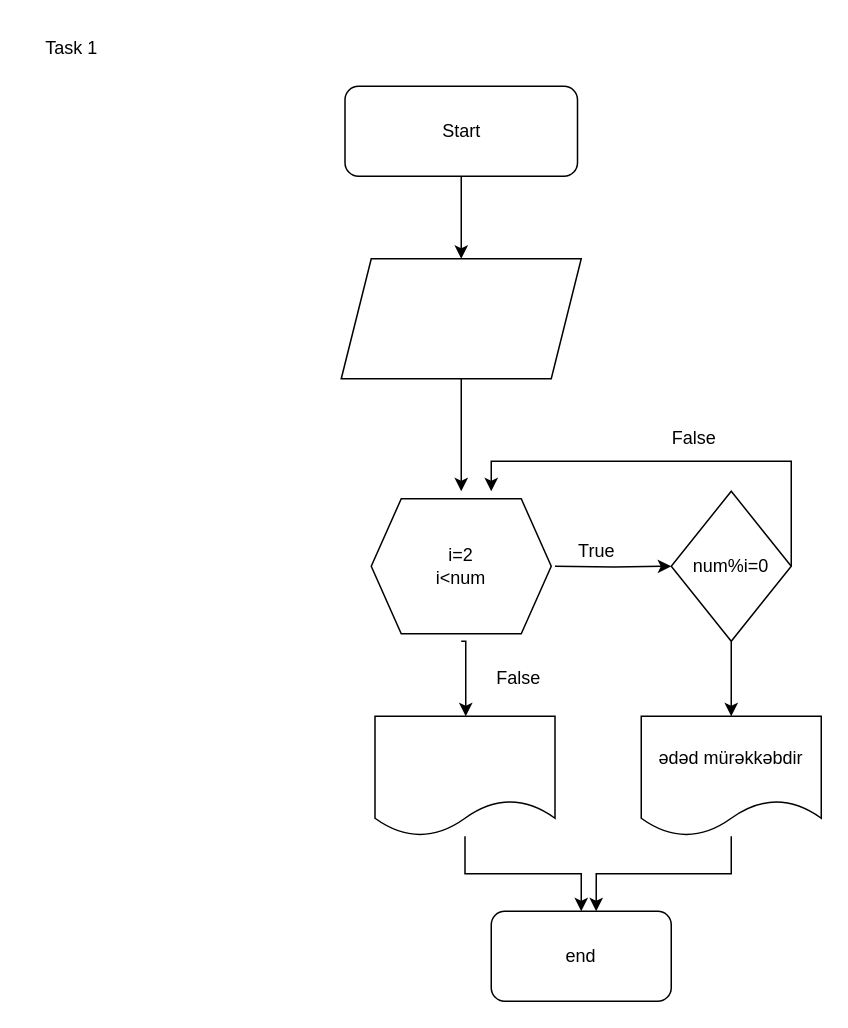
This 848x1028 diagram has some shape labels left out. Here are the shapes that lost their labels. From the top down, the centre of each, then its label:
At pixel 460 318: "num".
At pixel 464 775: "ədəd sadədir".
